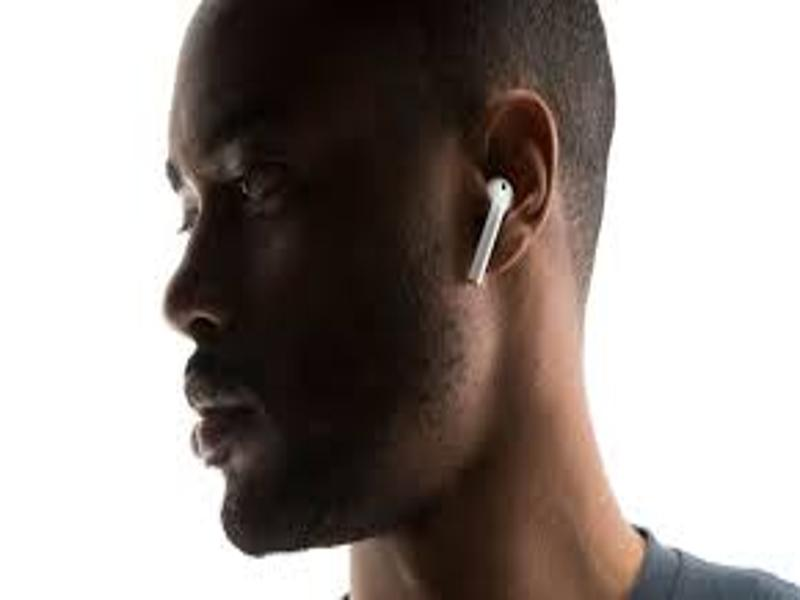headphone: (459, 176, 516, 289)
